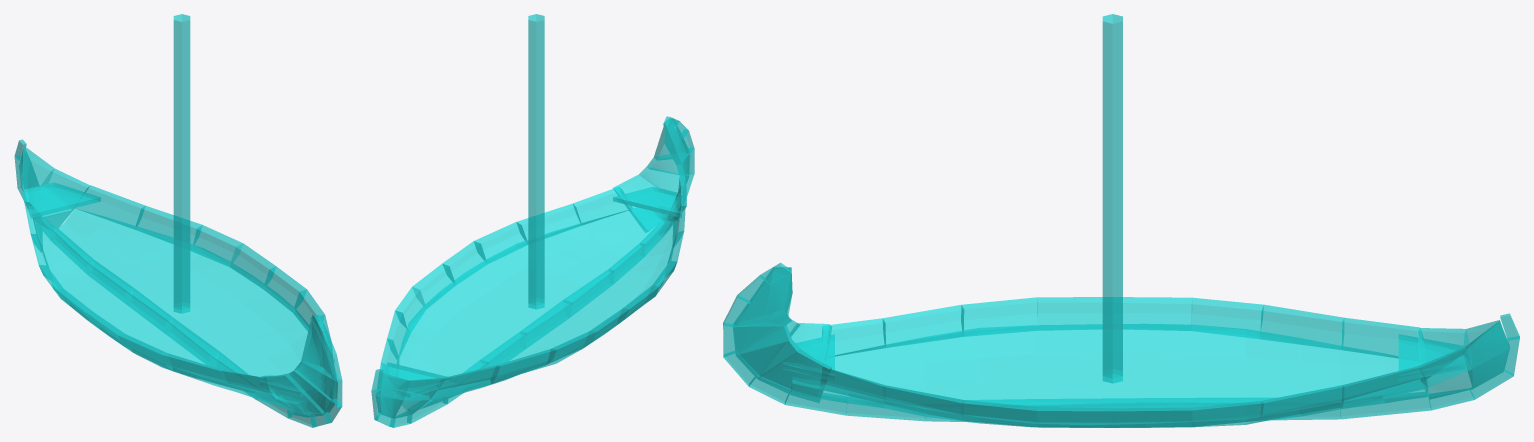
Rendered from SM_Veh_Boat_Large_01_Collision.fbx.
3 views of the same model, side by side, from view 1: azimuth 30°, elevation 25°; view 2: azimuth 150°, elevation 25°; view 3: azimuth 270°, elevation 25° (orthographic). The views are drawn at different scales.
Parts seen in each view (by area): view 1: SM_Veh_Boat_Large_01_Collision; view 2: SM_Veh_Boat_Large_01_Collision; view 3: SM_Veh_Boat_Large_01_Collision.
Part boxes in pixels (left/top/right/bottom): SM_Veh_Boat_Large_01_Collision: left=14, top=14, right=342, bottom=427; SM_Veh_Boat_Large_01_Collision: left=371, top=14, right=694, bottom=427; SM_Veh_Boat_Large_01_Collision: left=723, top=14, right=1519, bottom=427.
Size of the model in its own units: 871 by 1430 by 2562.
